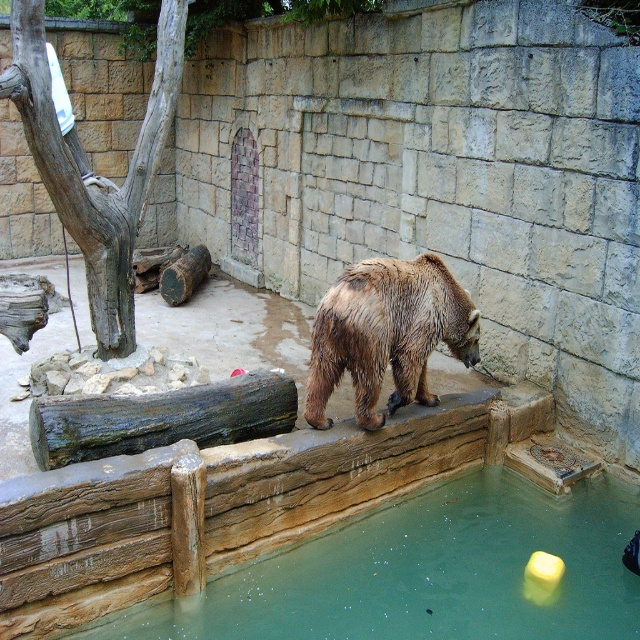Brown bear: (302, 254, 482, 433)
